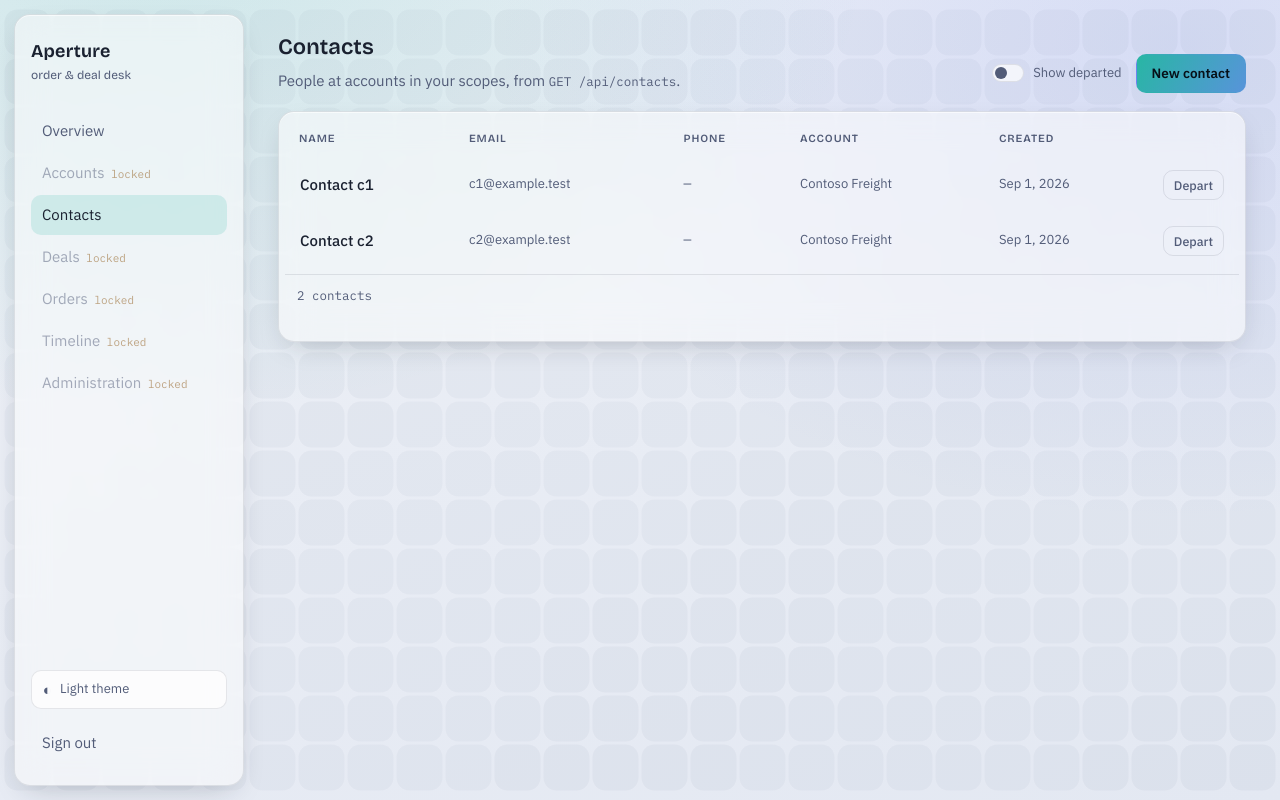
Test: Depart › Given a contact, when departed, then it leaves the active list but remains under includeDeparted, marked departed (edge 12)
Expected: the text "Contact c1" is shown, [285, 158, 455, 212]
Click the button with aria-label "Depart Contact c1" at (1193, 185), box [1163, 170, 1224, 200]
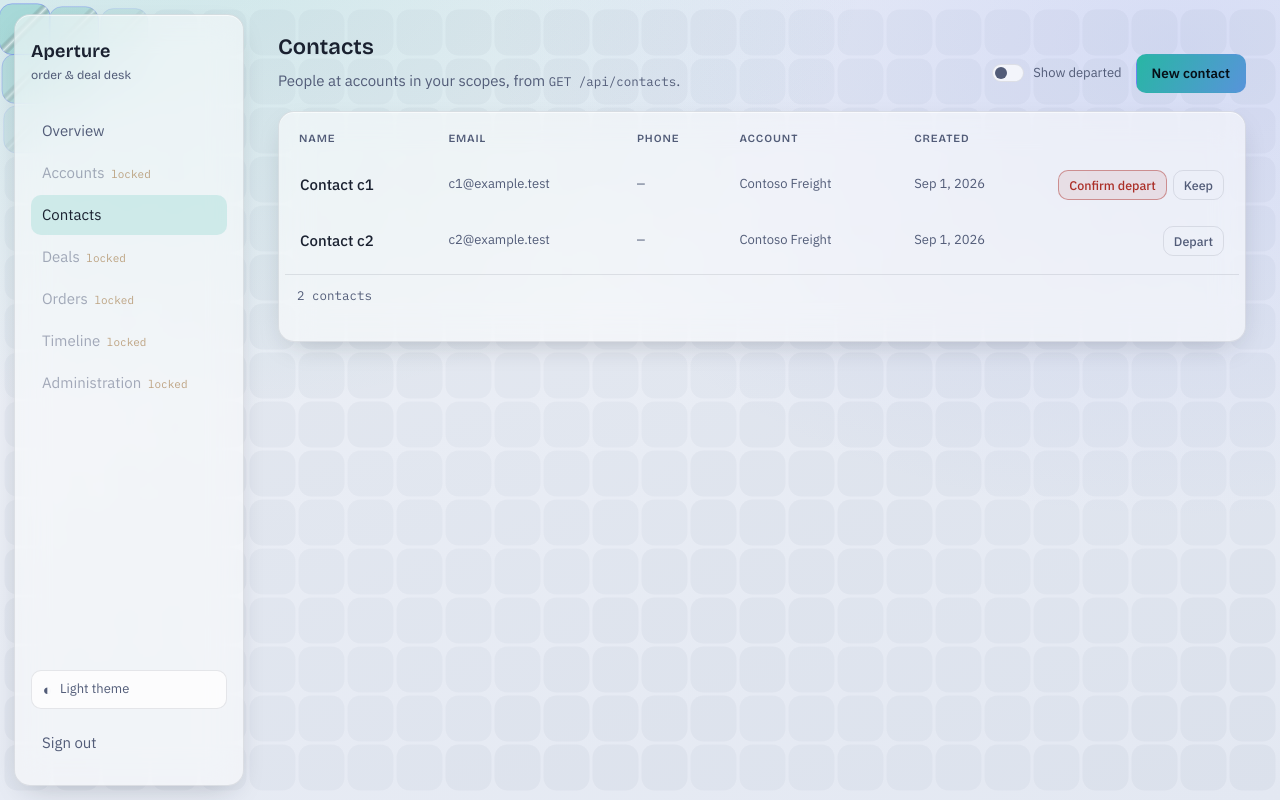
Click the button "Confirm depart" at (1113, 185), box [1058, 170, 1167, 200]
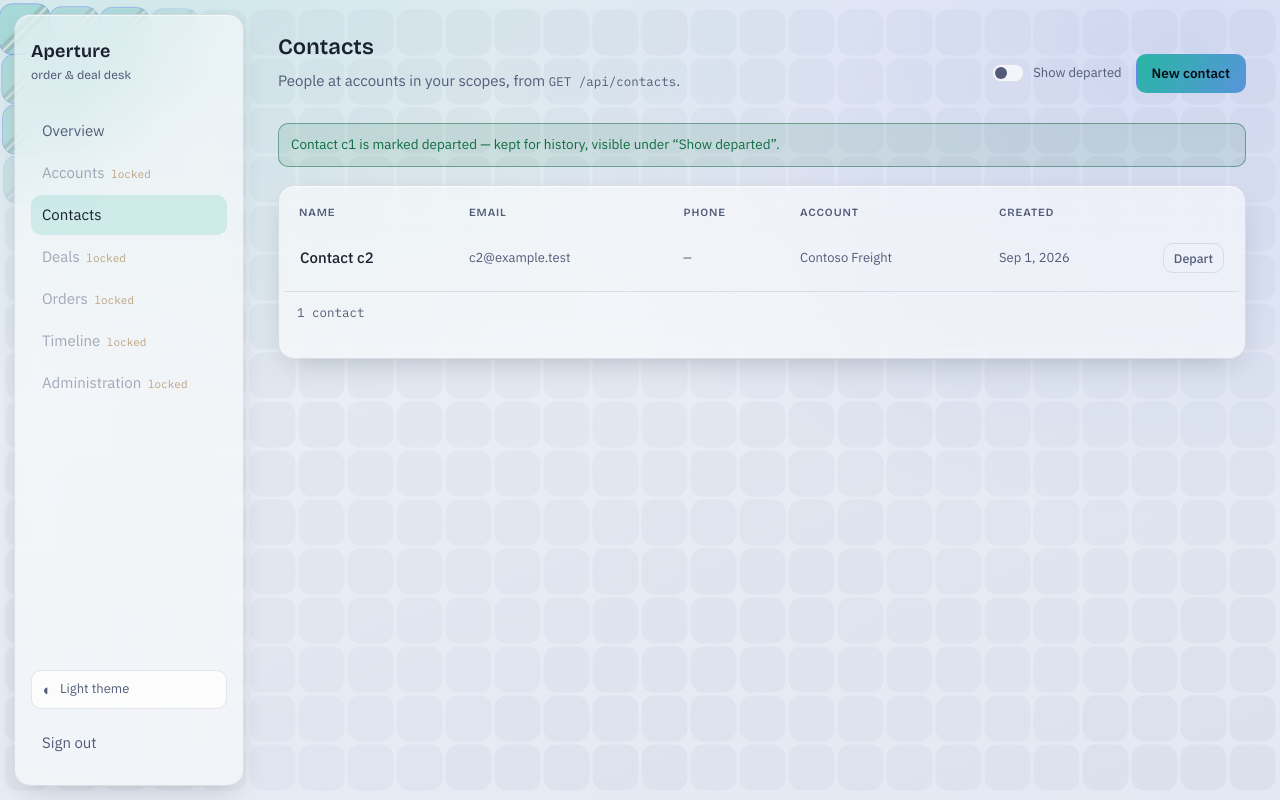
Expected: the text "Contact c2" is shown, [285, 231, 455, 285]
Expected: the message shows "kept for history", [356, 135, 585, 153]
Click the switch labelled "Show departed" at (1057, 73), box [992, 63, 1122, 84]
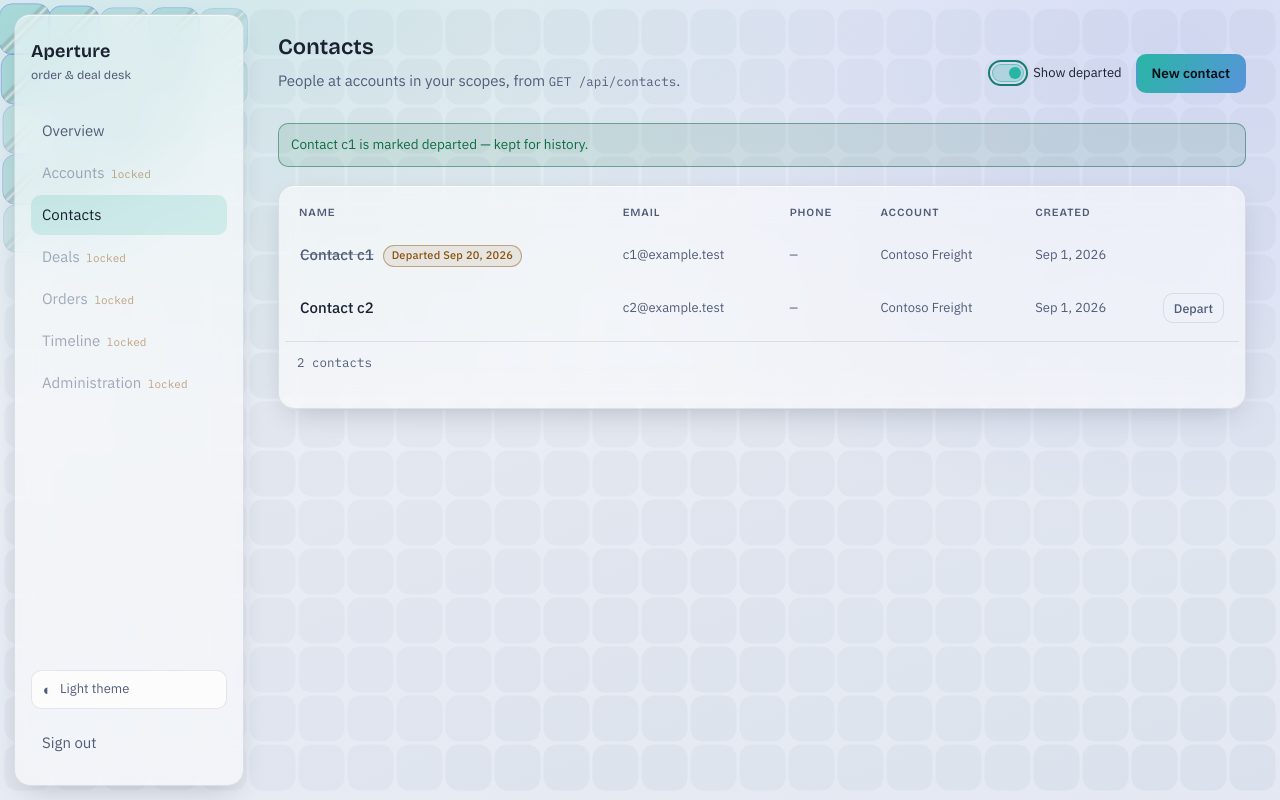
Expected: the text with test id "departed-badge" shows "Departed", [392, 248, 440, 262]
